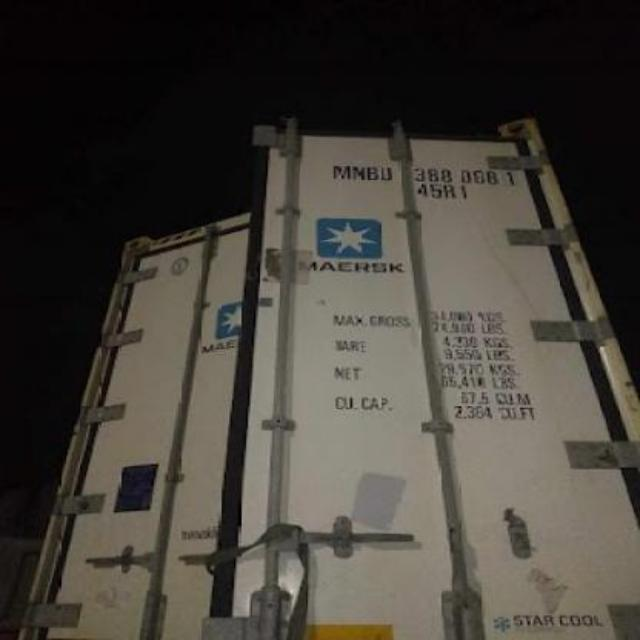0: (456, 164, 472, 186)
1: (500, 163, 518, 189)
3: (408, 160, 426, 183)
8: (470, 160, 486, 190), (486, 163, 498, 190), (441, 160, 454, 183), (428, 162, 440, 184)
B: (366, 156, 379, 184)
M: (326, 156, 350, 182)
N: (348, 156, 366, 188)
U: (381, 162, 394, 186)
